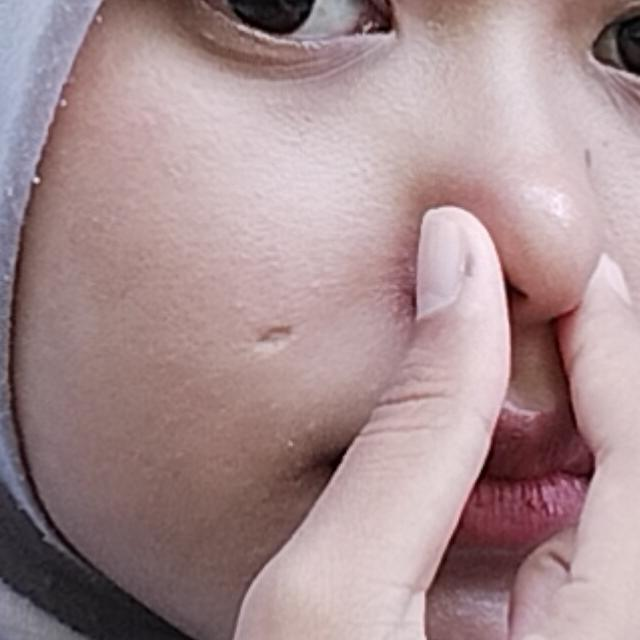bau: (176, 88, 640, 640)
